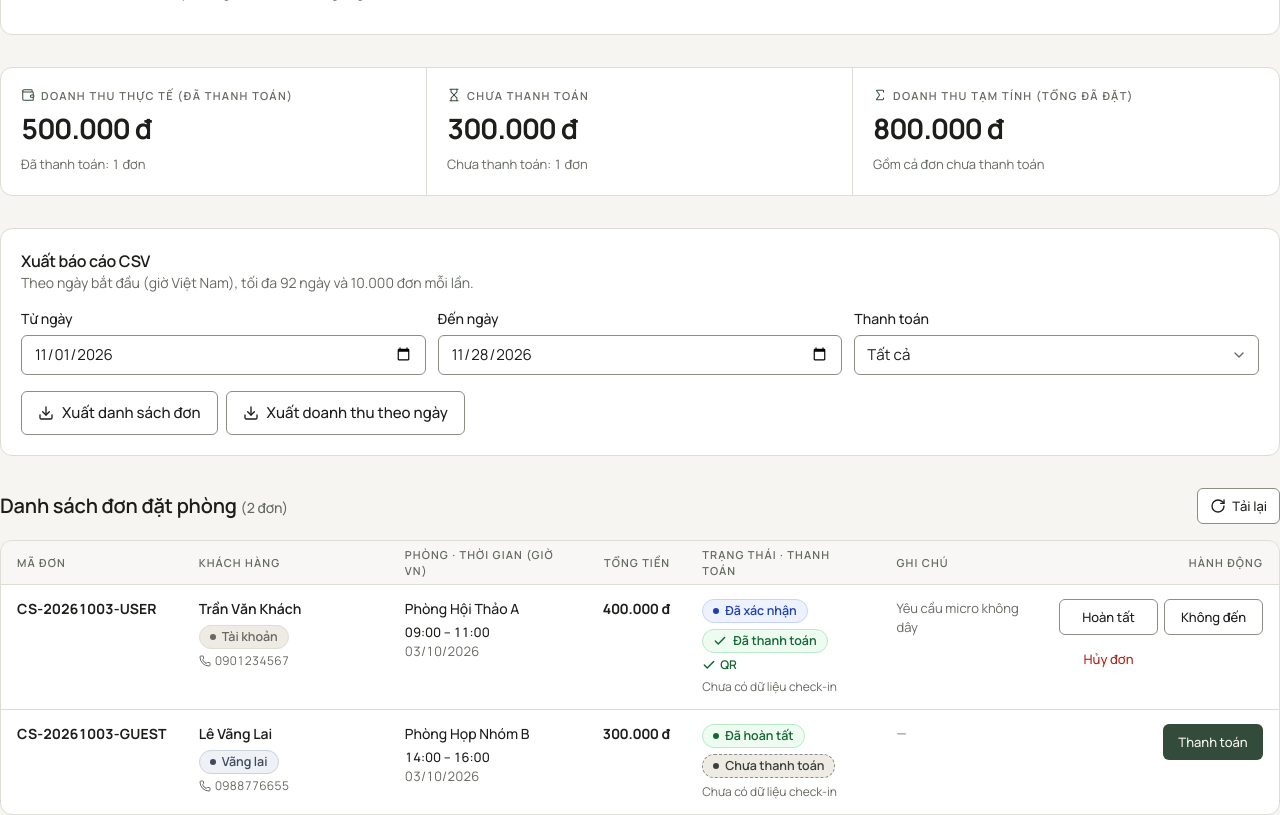
Test: AdminBookingsPage - Booking Management & Search › Revenue KPI Summary and State Transition Actions (Complete / No-Show) › completes confirmed booking when admin clicks Hoàn tất button
(page scrolled)
Click the button with test id "complete-booking-btn-booking-1".
click(1108, 618)  # box [1059,600,1158,636]
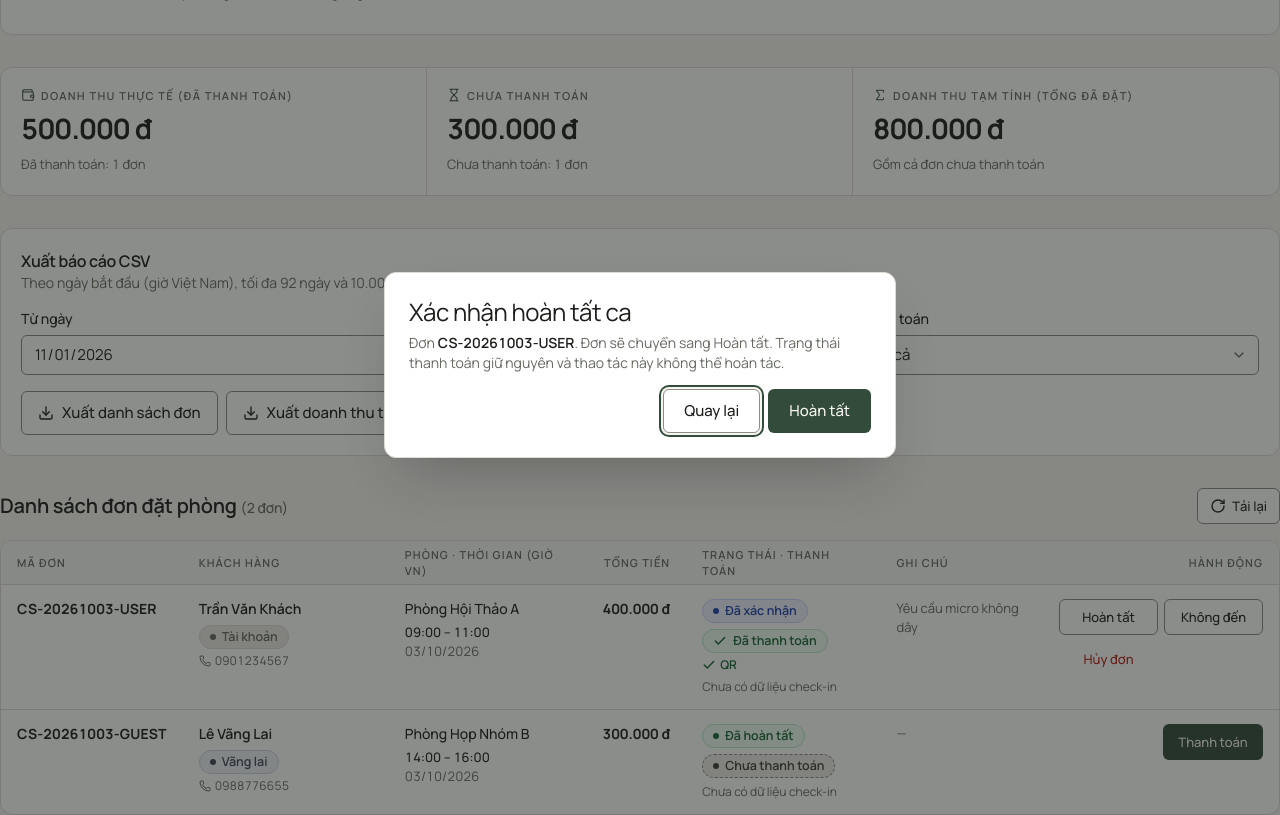
Click the button with test id "lifecycle-confirm-submit-btn".
click(820, 411)  # box [768,389,871,433]
(page scrolled)
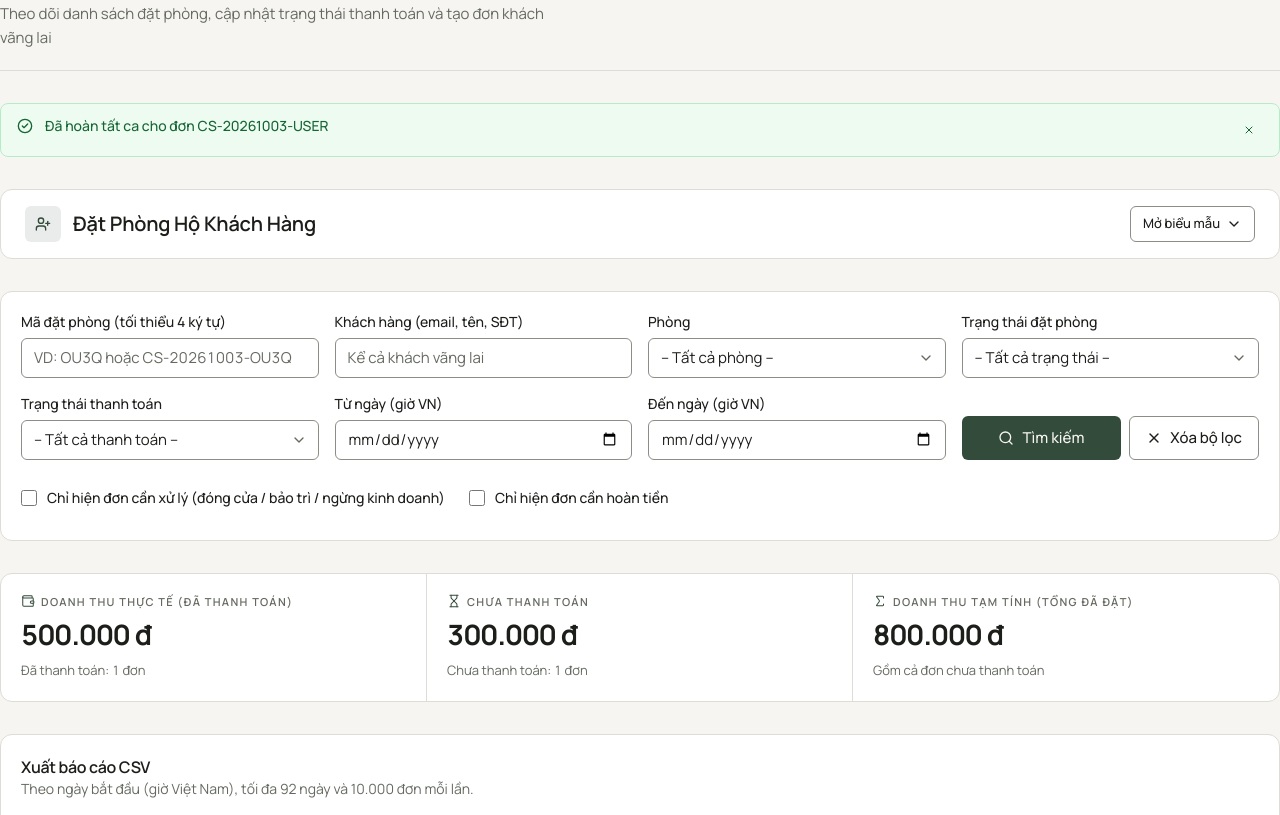
Expected: the text "Đã hoàn tất ca cho đơn CS-20261003-USER" is shown, [45,116,328,135]
